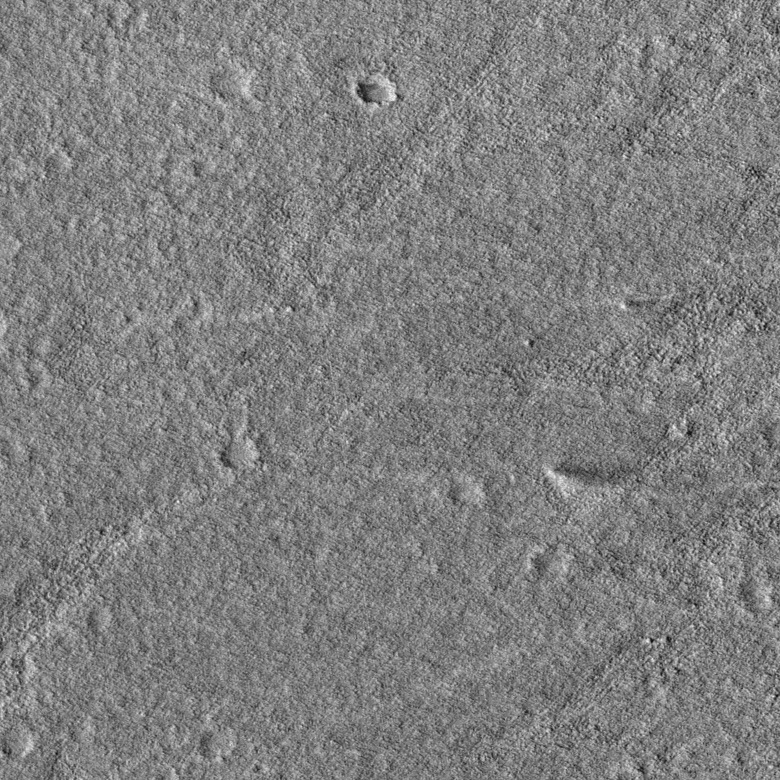dust_devil: (545, 462, 633, 499), (618, 296, 659, 311)
